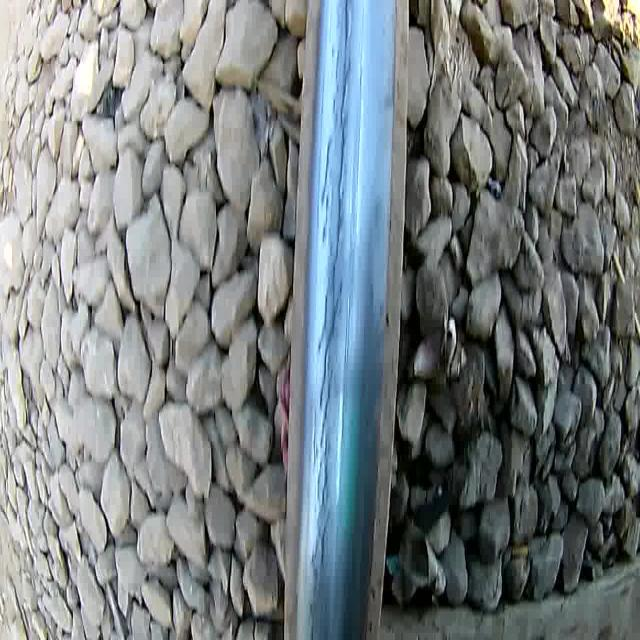Cracks: (307, 0, 356, 640)
Grooves: (337, 0, 368, 512)
